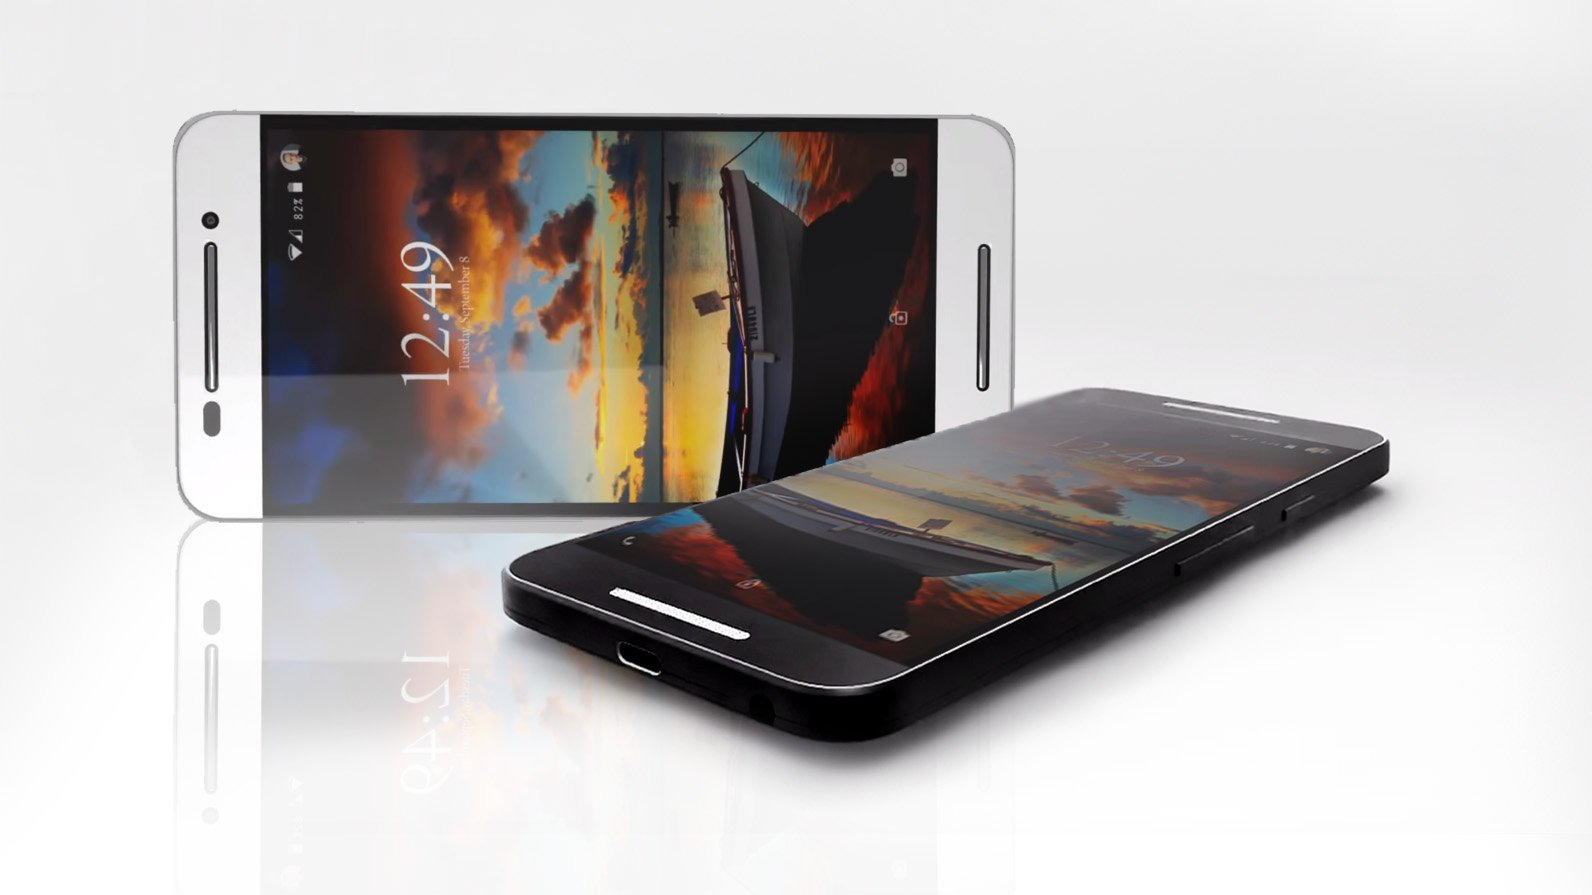smartphone: (173, 111, 1015, 523), (501, 388, 1390, 747)
